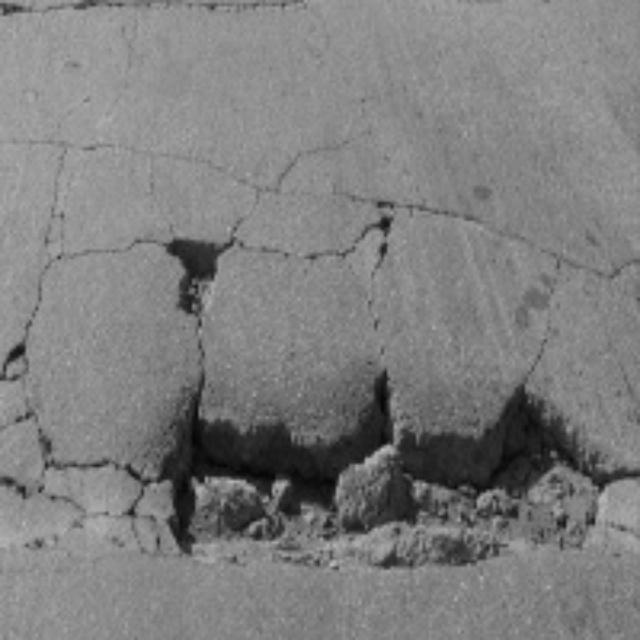Crack: (32, 132, 640, 282)
Pothole: (177, 383, 578, 602), (162, 226, 235, 313)
